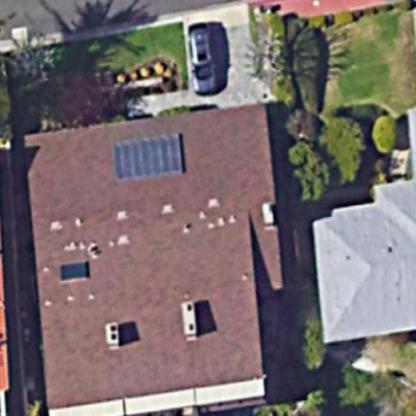car: (92, 131, 188, 194), (183, 20, 223, 104)
